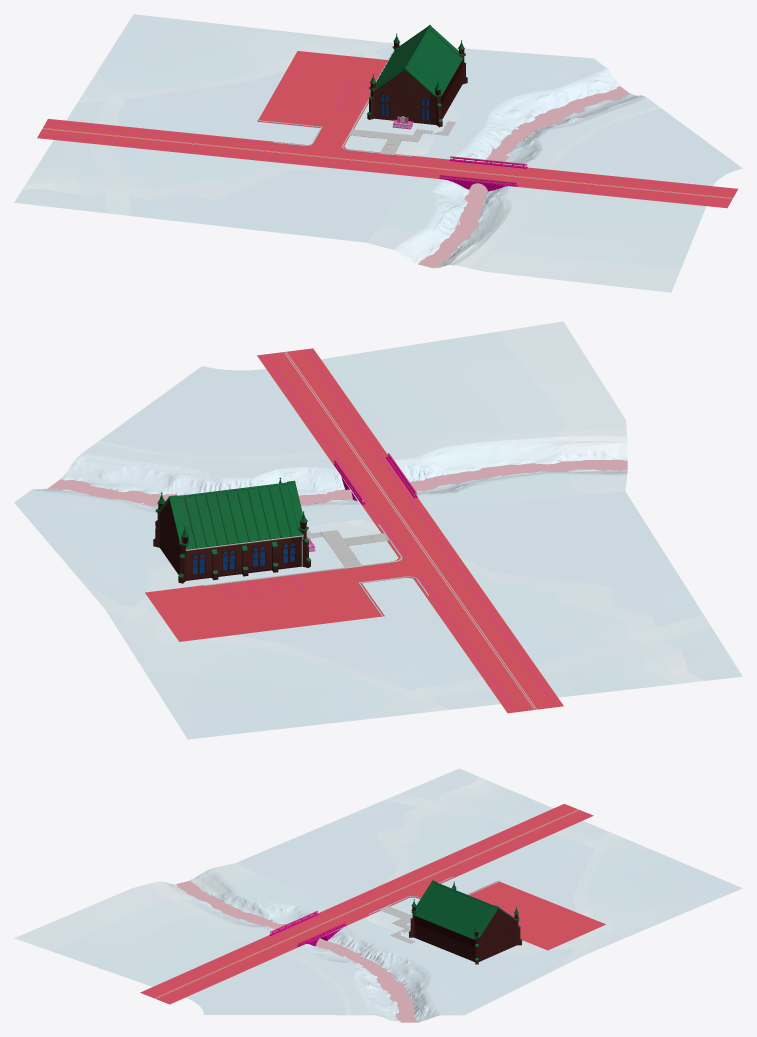
The model's file is Church_Full.fbx.
3 renders of one model, top to bottom at view 1: azimuth 30°, elevation 25°; view 2: azimuth 150°, elevation 25°; view 3: azimuth 270°, elevation 25°, orthographic. The views are drawn at different scales.
Visible parts, largest first — view 1: SM_Church_Ground_01.mo, SM_Church_Road_01.mo, SM_Hometown_Church_01.mo, SM_Church_Sidewalk_01.mo, SM_Church_Bridge_01.mo; view 2: SM_Church_Ground_01.mo, SM_Church_Road_01.mo, SM_Hometown_Church_01.mo, SM_Church_Sidewalk_01.mo; view 3: SM_Church_Ground_01.mo, SM_Church_Road_01.mo, SM_Hometown_Church_01.mo, SM_Church_Sidewalk_01.mo, SM_Church_Bridge_01.mo.
Part boxes in pixels (left/top/right/bottom): SM_Church_Ground_01.mo: left=14, top=14, right=742, bottom=292; SM_Church_Road_01.mo: left=37, top=51, right=737, bottom=208; SM_Hometown_Church_01.mo: left=367, top=25, right=467, bottom=127; SM_Church_Sidewalk_01.mo: left=257, top=96, right=455, bottom=156; SM_Church_Bridge_01.mo: left=439, top=156, right=527, bottom=191; SM_Church_Ground_01.mo: left=14, top=321, right=742, bottom=739; SM_Church_Road_01.mo: left=145, top=348, right=563, bottom=713; SM_Hometown_Church_01.mo: left=153, top=477, right=311, bottom=583; SM_Church_Sidewalk_01.mo: left=204, top=524, right=428, bottom=616; SM_Church_Ground_01.mo: left=14, top=768, right=742, bottom=1022; SM_Church_Road_01.mo: left=140, top=804, right=605, bottom=1004; SM_Hometown_Church_01.mo: left=408, top=880, right=522, bottom=964; SM_Church_Sidewalk_01.mo: left=369, top=876, right=499, bottom=943; SM_Church_Bridge_01.mo: left=269, top=911, right=346, bottom=946.
Size of the model in its own units: 13699 by 1696 by 17093.
